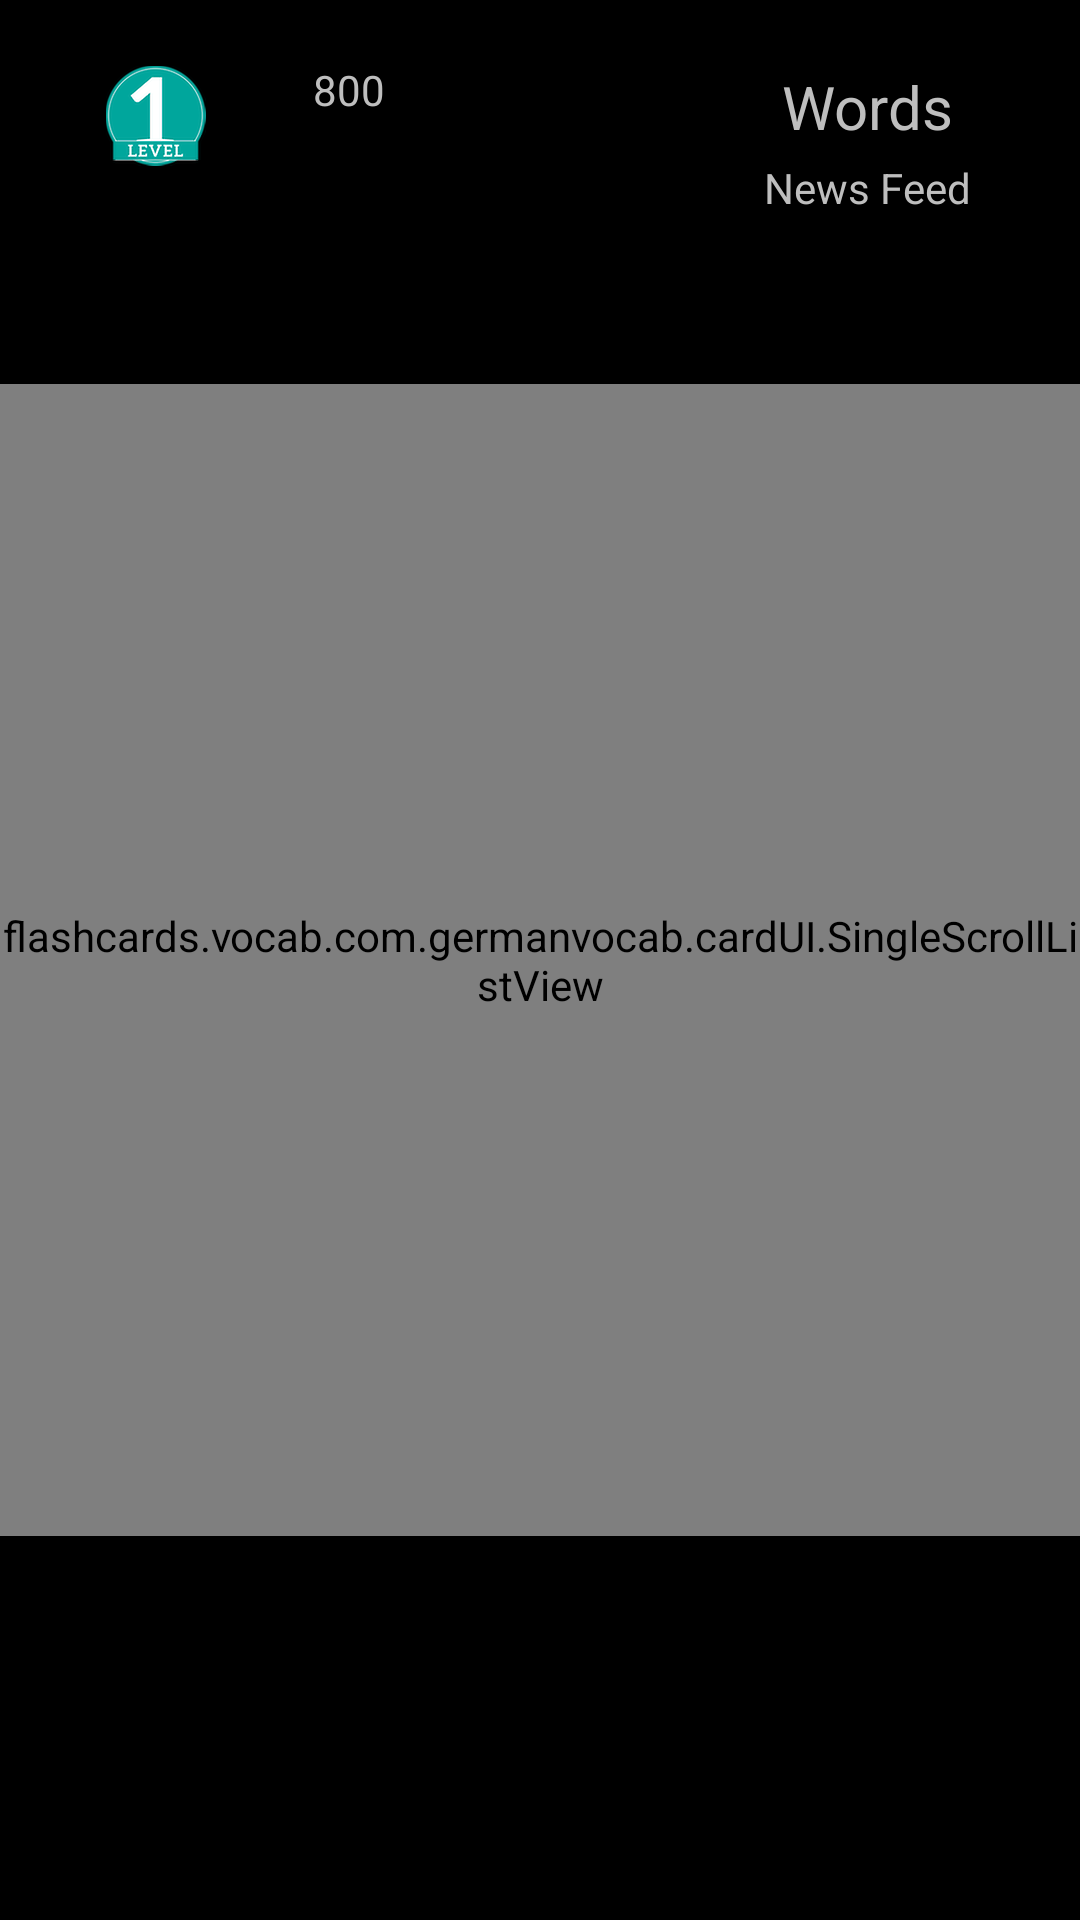

Icon bounding boxes for this 1080 × 1920 phone screenshot, format (left=x1, top=y1, right=x2, bottom=y2):
badge: (left=106, top=66, right=206, bottom=166)
